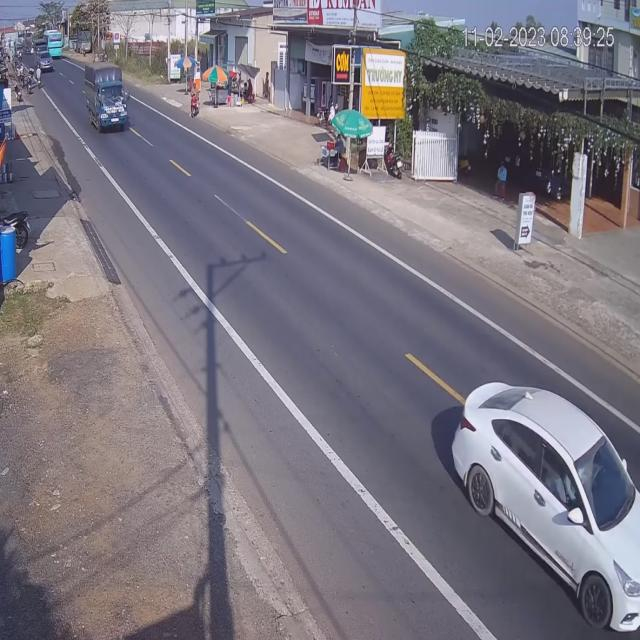bus: (46, 29, 62, 58)
car: (453, 382, 639, 639), (38, 52, 52, 74)
motorbike: (189, 88, 199, 118)
truck: (84, 61, 127, 134)
